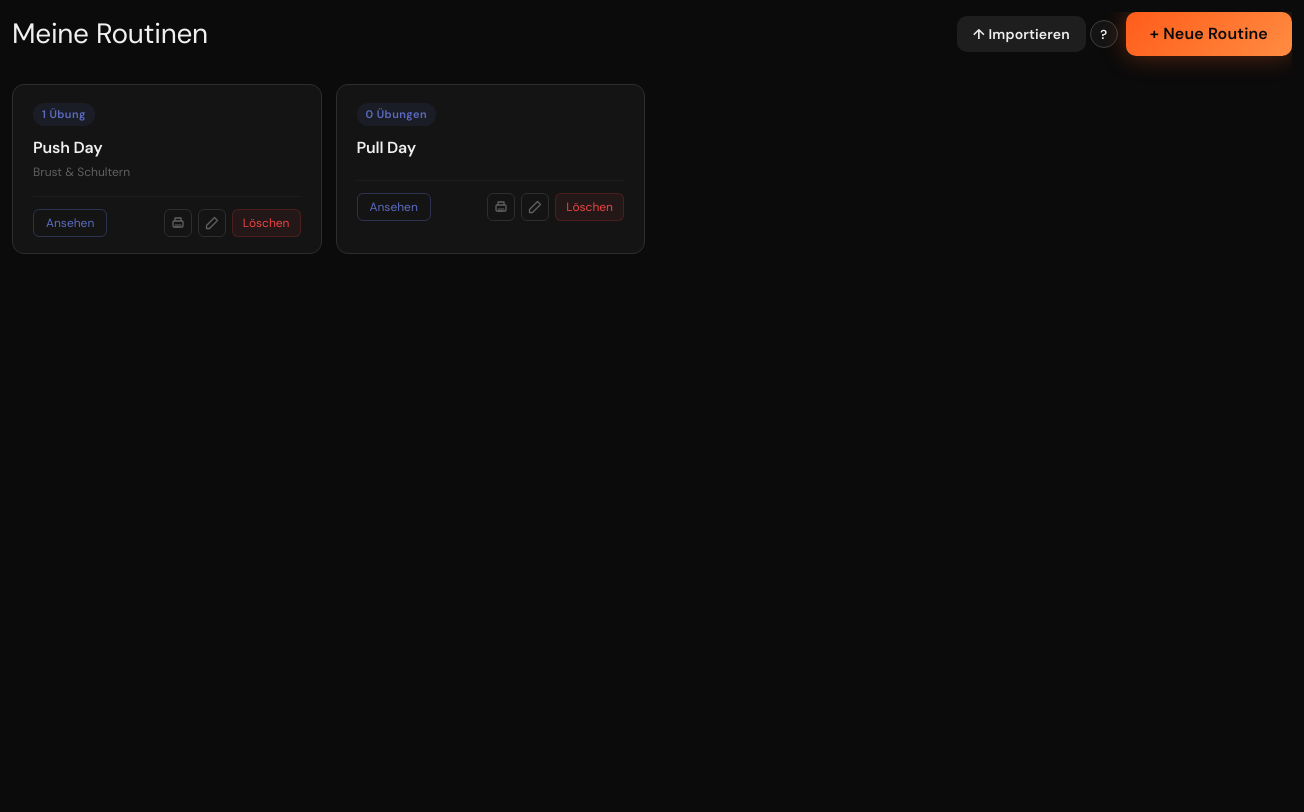
RoutineList – Import-Infobox › closes infobox on ✕ button click
Click the button named "import-hilfe anzeigen" at (1104, 34), box [1090,20,1118,48]
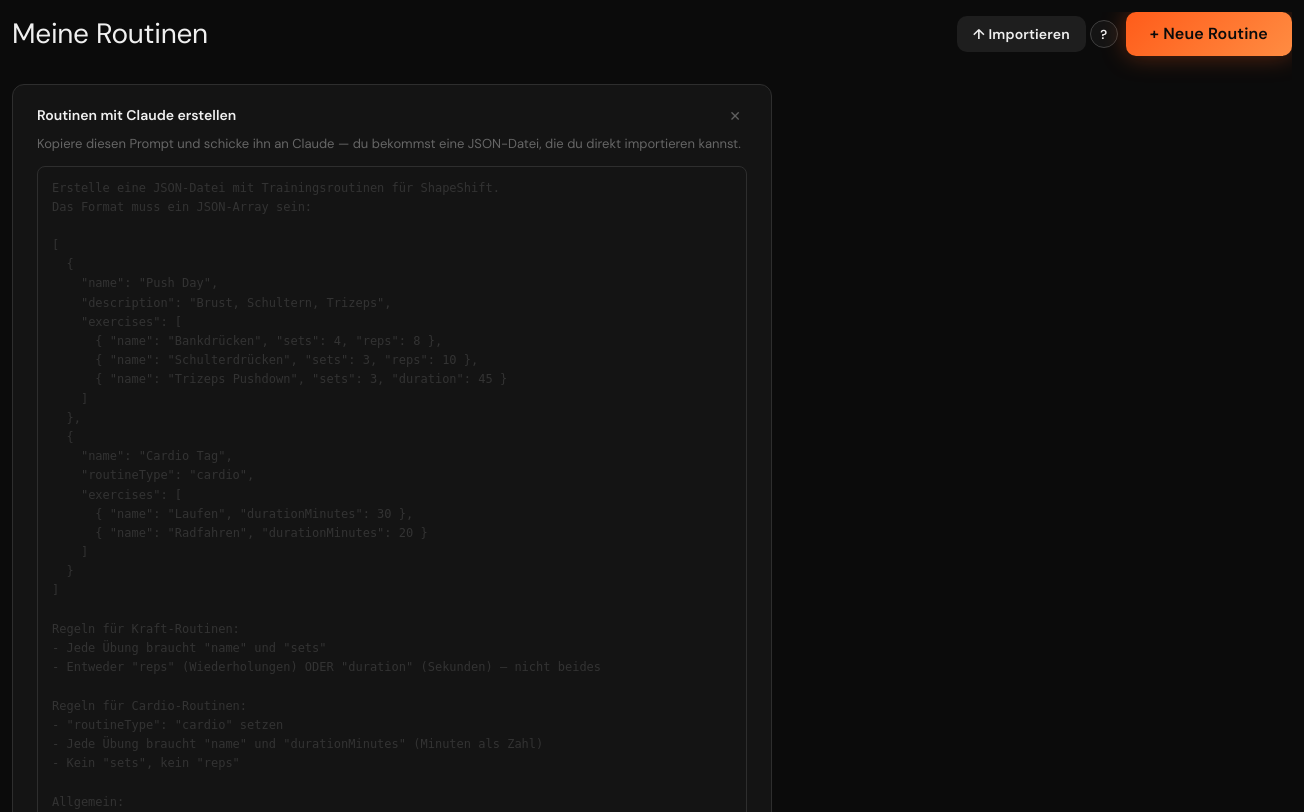
Click the button named "schließen" at (735, 116), box [723,106,747,124]
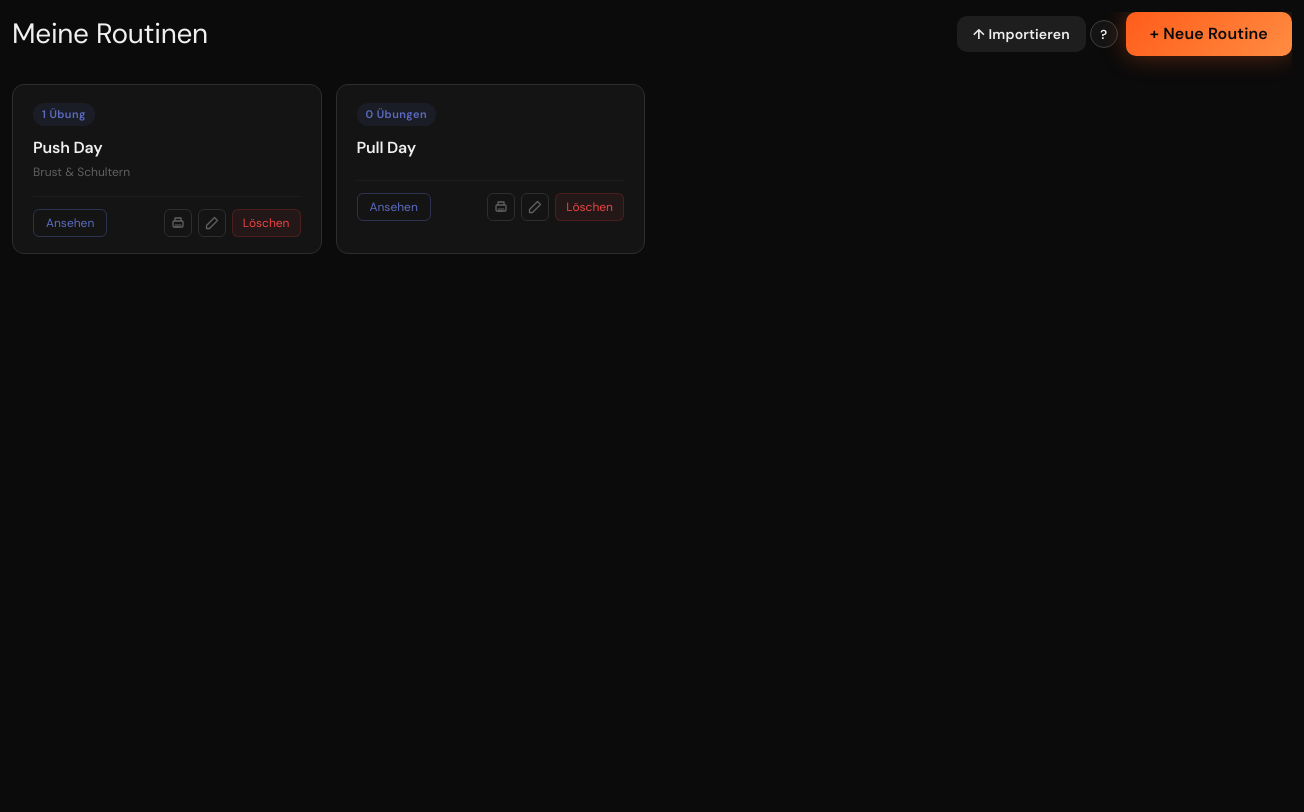
Result: the text "Routinen mit Claude erstellen" is gone
